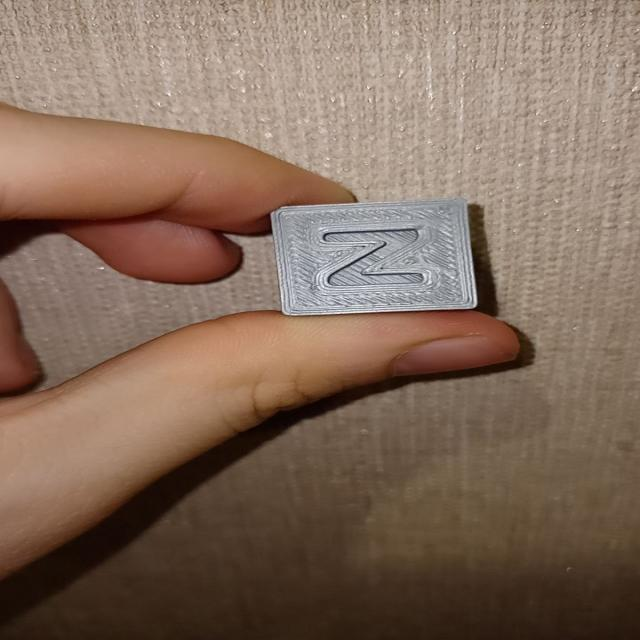Without deffect: (230, 184, 503, 326)
